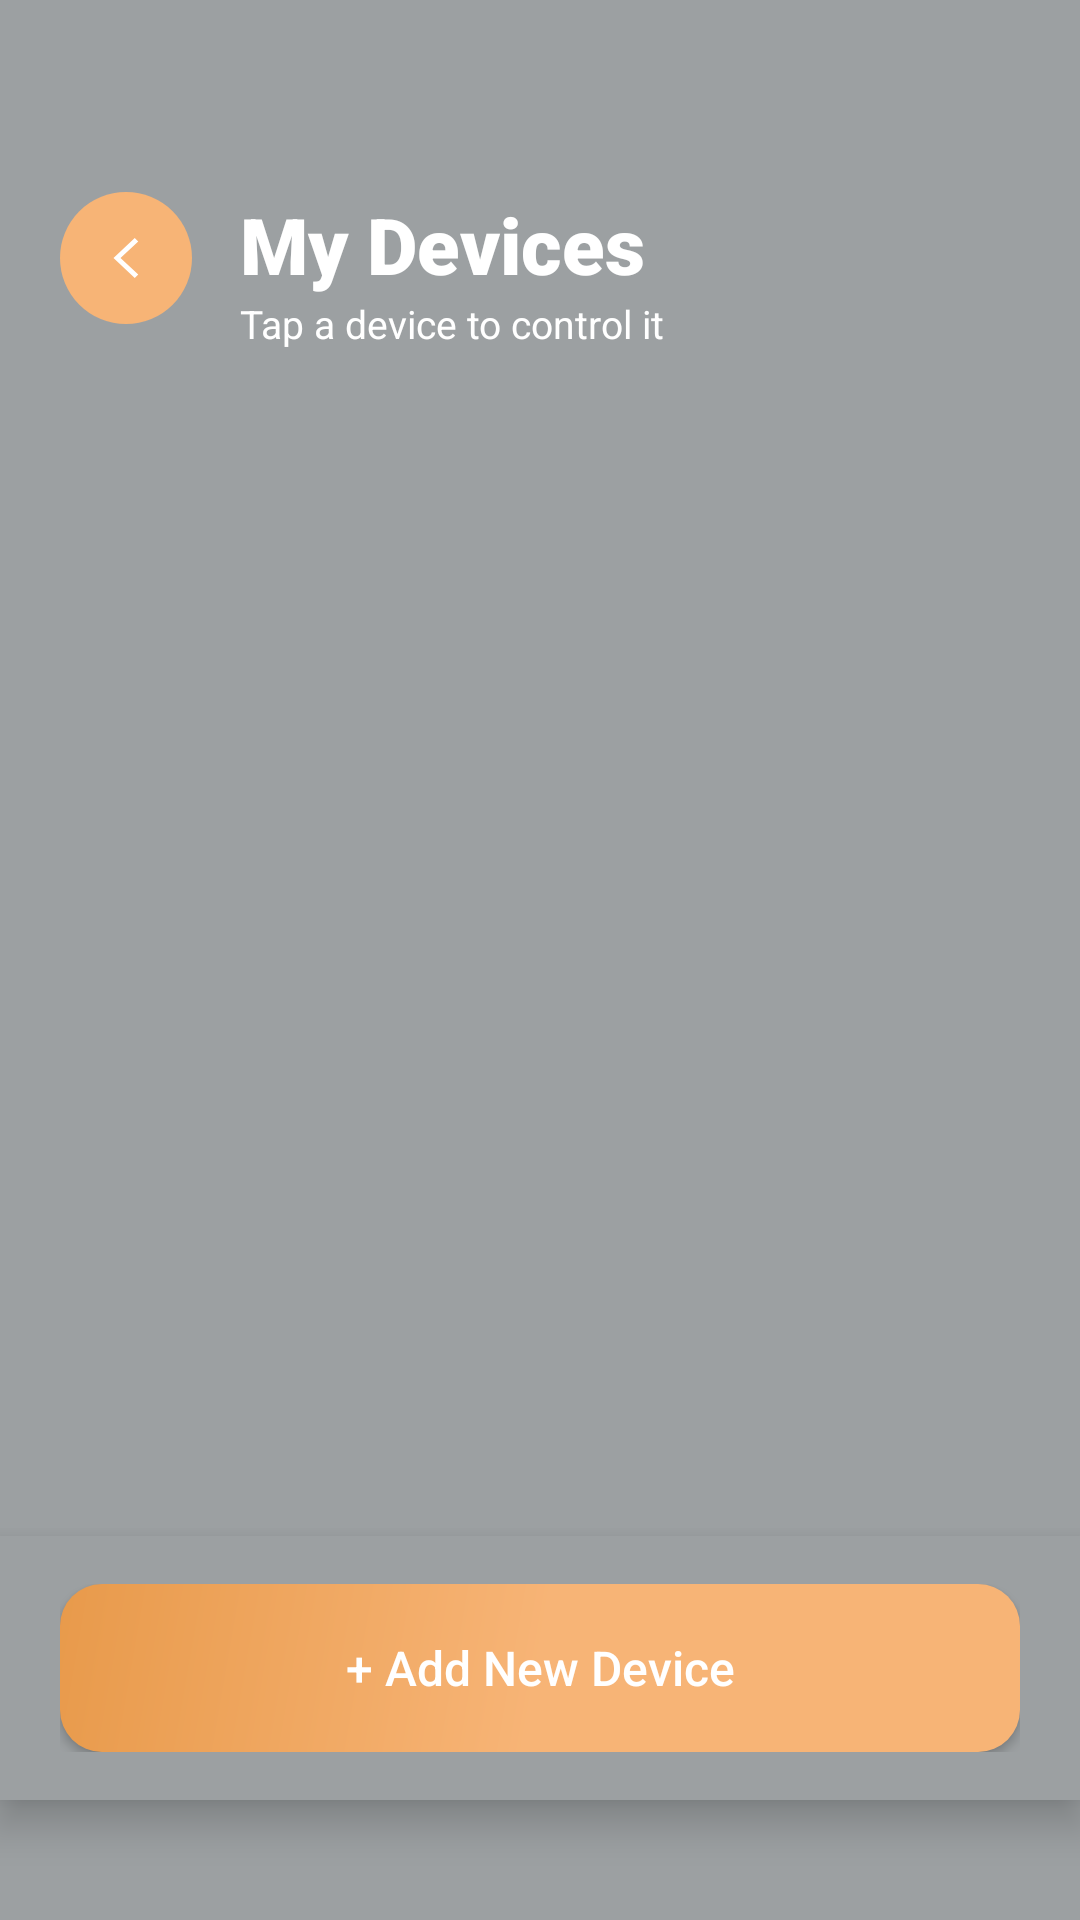

Named icons in this screenshot (1080 x 1920) and their centers, point (x, y):
back: point (126, 258)
